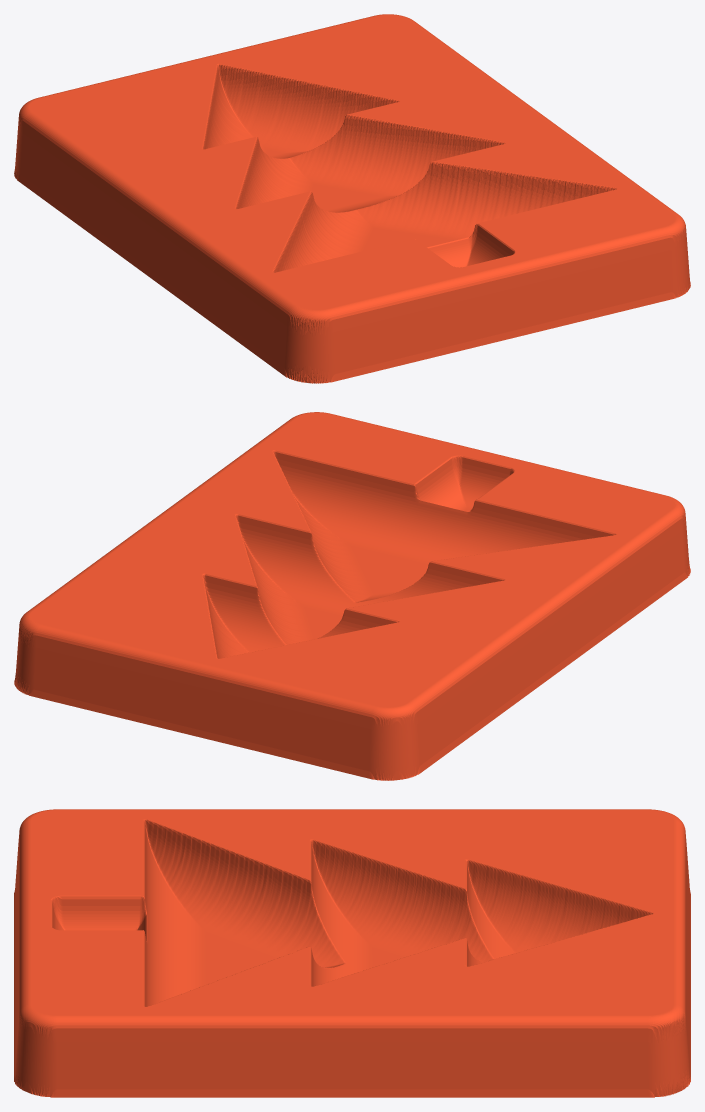
Rendered from mold.glb.
3 renders of one model, top to bottom at view 1: azimuth 30°, elevation 25°; view 2: azimuth 150°, elevation 25°; view 3: azimuth 270°, elevation 25°, orthographic. The views are drawn at different scales.
Visible parts, largest first — view 1: geometry_0; view 2: geometry_0; view 3: geometry_0.
Part boxes in pixels (x1,y1,x2,y2): geometry_0: [14, 14, 690, 383]; geometry_0: [14, 412, 690, 780]; geometry_0: [14, 809, 690, 1097].
Size of the model in its own units: 0.11 by 0.0175 by 0.1435.
